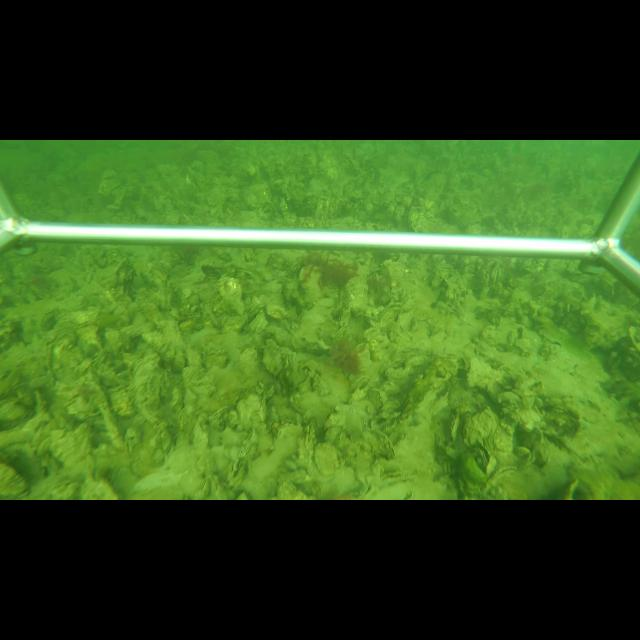Oyster-Closed: (129, 352, 168, 422), (232, 382, 272, 429), (226, 428, 257, 487), (255, 381, 273, 423), (330, 310, 351, 339), (206, 406, 231, 427), (449, 413, 460, 442)
